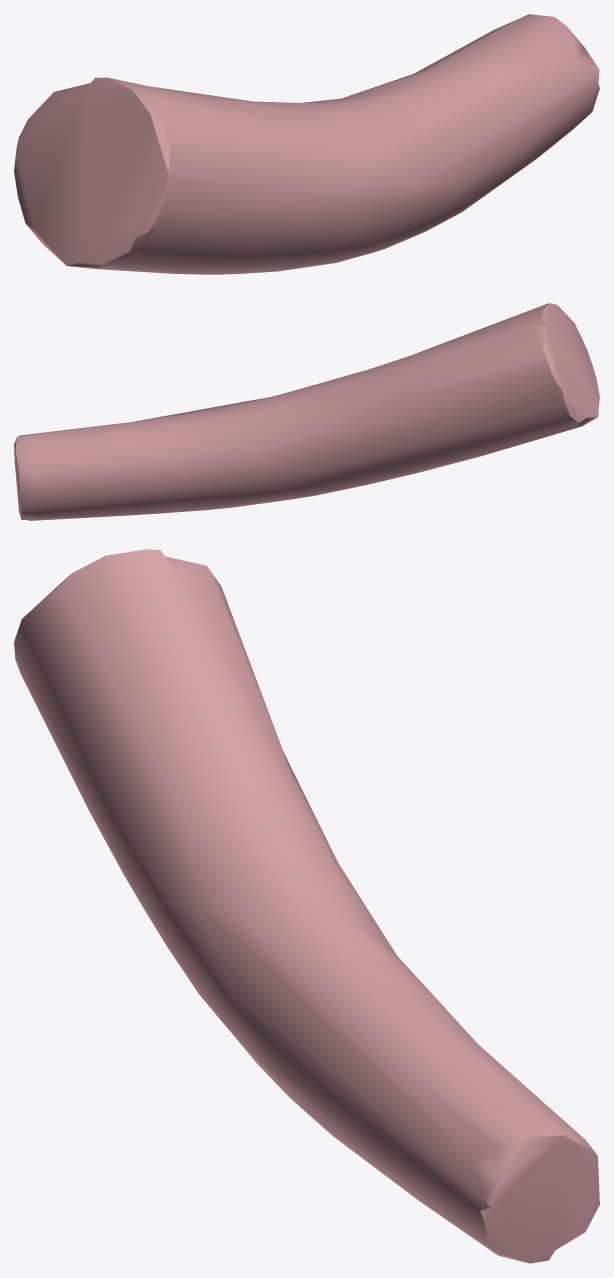
File: fma68216_fj2502.glb
3 renders of one model, top to bottom at view 1: azimuth 30°, elevation 25°; view 2: azimuth 150°, elevation 25°; view 3: azimuth 270°, elevation 25°, orthographic. The views are drawn at different scales.
Visible parts, largest first — view 1: FMA68216_FJ2502; view 2: FMA68216_FJ2502; view 3: FMA68216_FJ2502.
Part boxes in pixels (bbox=[...]): FMA68216_FJ2502: bbox=[14, 14, 599, 274]; FMA68216_FJ2502: bbox=[14, 303, 599, 520]; FMA68216_FJ2502: bbox=[14, 549, 599, 1263].
Size of the model in its own units: 0.0127 by 0.00563 by 0.00797.
